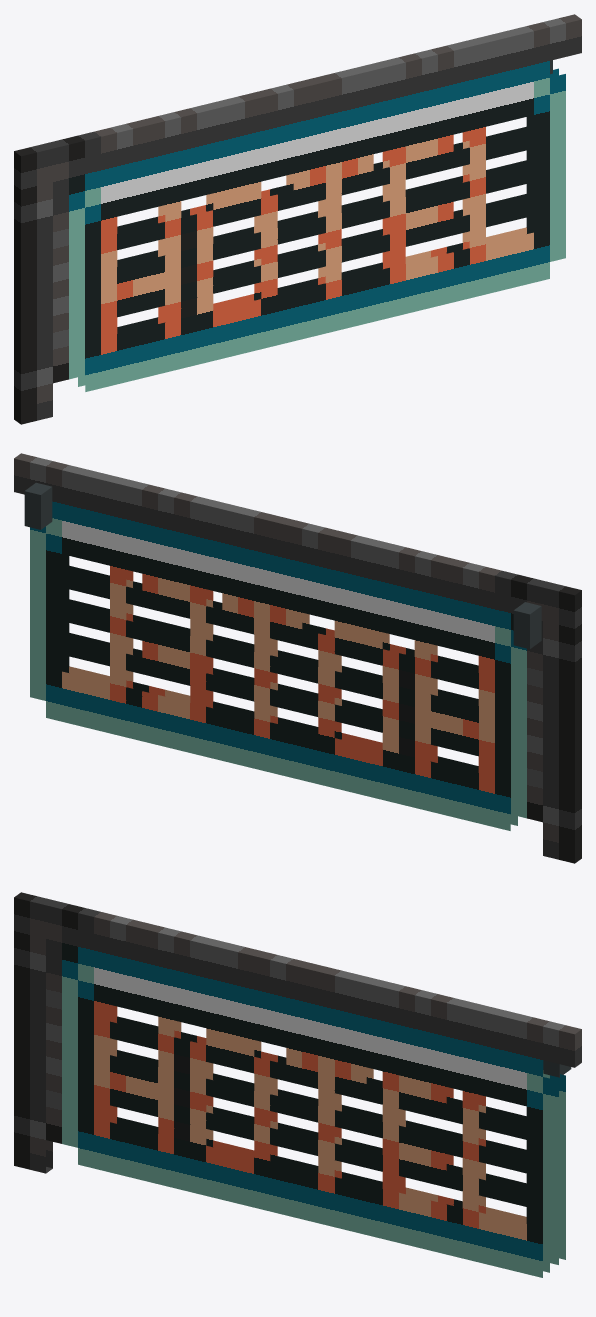
File: CMU3DPrintedRMCOverheadSignNeonHotel.glb
3 renders of one model, top to bottom at view 1: azimuth 30°, elevation 25°; view 2: azimuth 150°, elevation 25°; view 3: azimuth 330°, elevation 25°, orthographic.
Parts seen in each view (by area): view 1: lit source lettering and outline; view 2: lit source lettering and outline, small wall standoff (×2); view 3: lit source lettering and outline.
Boxes of the visible parts, box(x1,y1,x2,y2) form: lit source lettering and outline: box(14, 14, 581, 424); lit source lettering and outline: box(14, 453, 581, 863); small wall standoff (×2): box(24, 482, 541, 649); lit source lettering and outline: box(14, 892, 581, 1277).
Size of the model in its own units: 1.09 by 0.5 by 0.063.
Materials: 2 (1 with a texture image).
